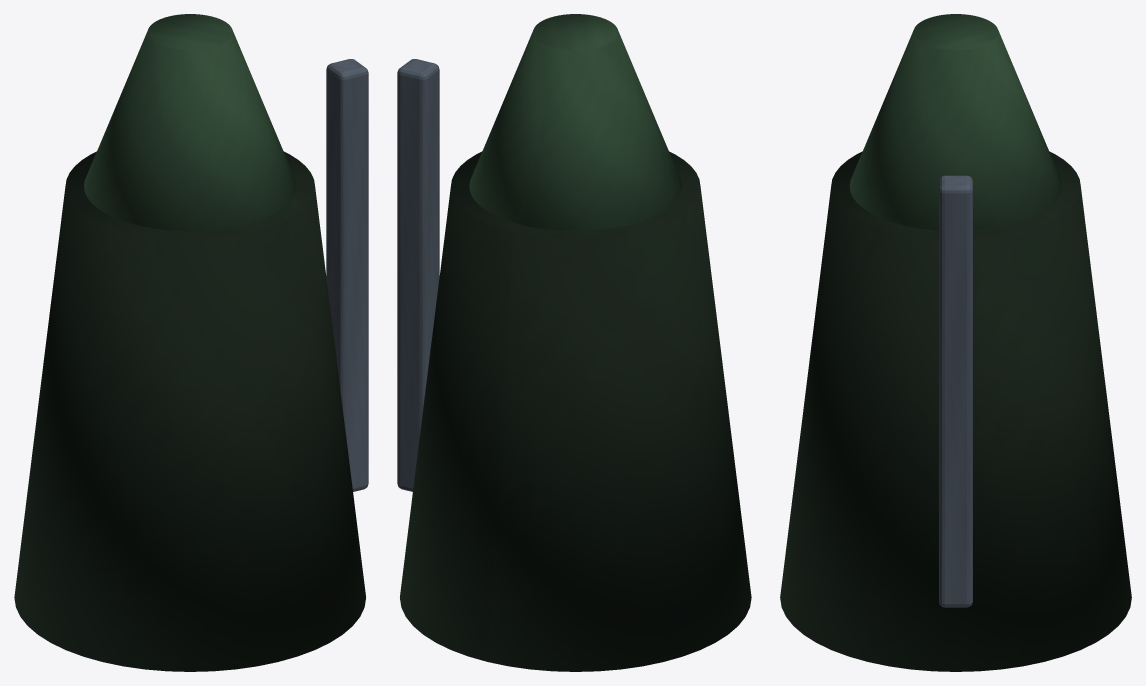
The model's file is monster_Evil_Druid.glb.
3 views of the same model, side by side, from view 1: azimuth 30°, elevation 25°; view 2: azimuth 150°, elevation 25°; view 3: azimuth 270°, elevation 25° (orthographic).
Parts seen in each view (by area): view 1: Robe, Hood, Staff; view 2: Robe, Hood, Staff; view 3: Robe, Hood, Staff.
Boxes of the visible parts, x1,y1,x2,y2 form: Robe: [14, 151, 365, 671]; Hood: [84, 14, 296, 231]; Staff: [326, 59, 368, 491]; Robe: [400, 151, 751, 671]; Hood: [469, 14, 681, 231]; Staff: [397, 59, 439, 491]; Robe: [780, 151, 1131, 671]; Hood: [849, 14, 1062, 230]; Staff: [939, 175, 972, 607].
Bounding box in the file's own units: 1.32 × 2.2 × 1.24.
3 materials, 3 textured.
